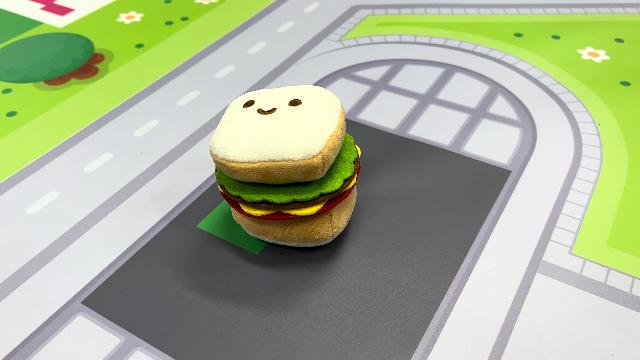sandwich: (208, 82, 362, 248)
